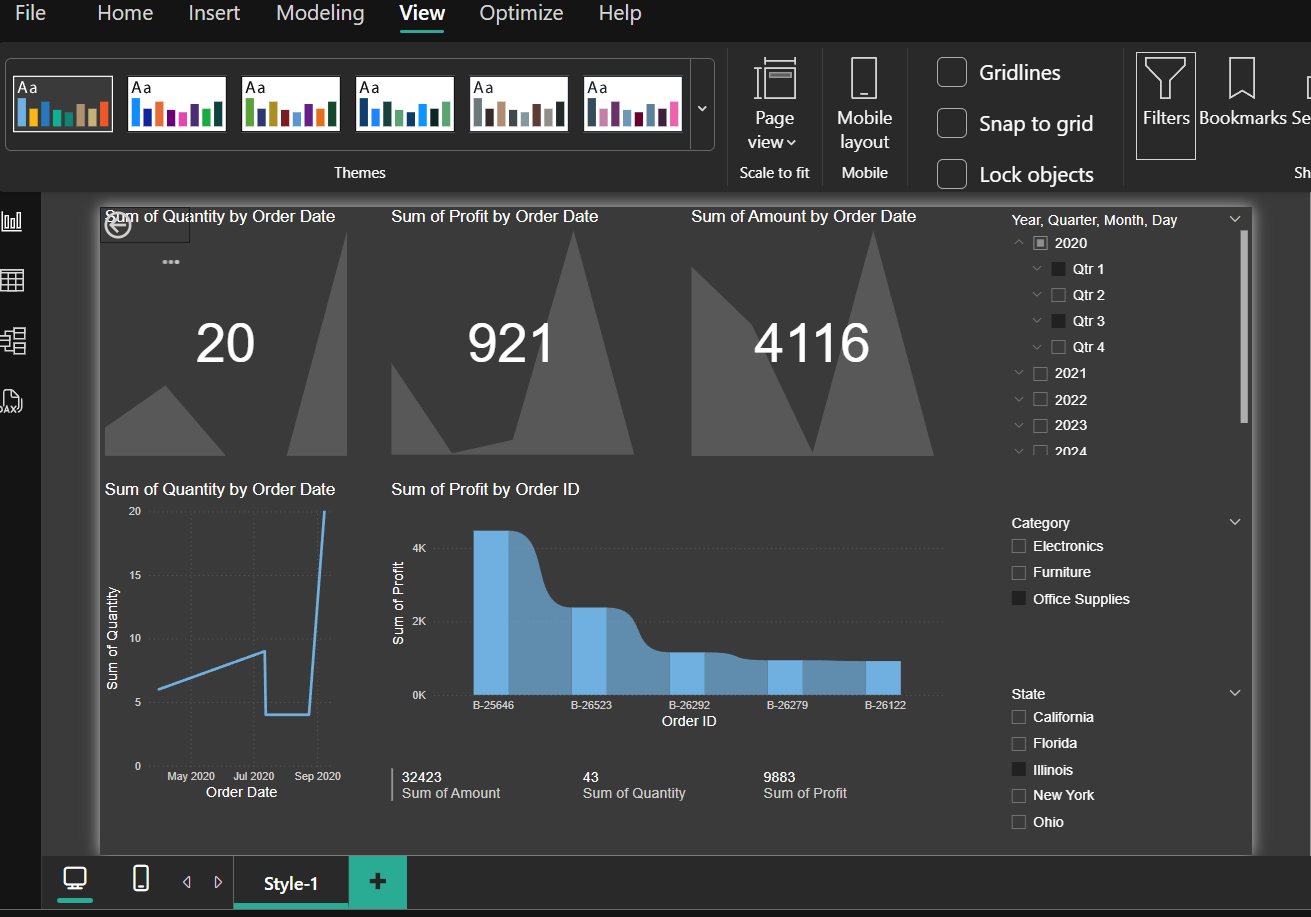

The page's visual inventory and layout, read from the dashboard file:
{"tool":"powerbi","page":{"name":"Style-1","canvas":[1280,720],"ordinal":0},"visuals":[{"type":"kpi","fields":{"TrendLine":["Sales Dataset.Order Date"],"Indicator":["Sum(Sales Dataset.Profit)"]},"box":[318,0,280,280],"z":0},{"type":"kpi","fields":{"Indicator":["Sum(Sales Dataset.Quantity)"],"TrendLine":["Sales Dataset.Order Date"]},"box":[0,0,279.7,281.6],"z":1000},{"type":"kpi","fields":{"Indicator":["Sum(Sales Dataset.Amount)"],"TrendLine":["Sales Dataset.Order Date"]},"box":[651.7,0,280,281.7],"z":2000},{"type":"lineChart","fields":{"Y":["Sum(Sales Dataset.Quantity)"],"Category":["Sales Dataset.Order Date"]},"box":[0,303.3,280,360],"z":3000},{"type":"slicer","fields":{"Values":["Sales Dataset.Order Date.Variation.Date Hierarchy.Year","Sales Dataset.Order Date.Variation.Date Hierarchy.Quarter","Sales Dataset.Order Date.Variation.Date Hierarchy.Month","Sales Dataset.Order Date.Variation.Date Hierarchy.Day"]},"box":[1000,0,280,280],"z":4000},{"type":"slicer","fields":{"Values":["Sales Dataset.Category"]},"box":[1000,336.7,280,146.7],"z":5000},{"type":"actionButton","box":[0,0,100,40],"z":6000},{"type":"multiRowCard","fields":{"Values":["Sum(Sales Dataset.Amount)","Sum(Sales Dataset.Quantity)","Sum(Sales Dataset.Profit)"]},"box":[318.3,618.3,625,88.3],"z":6001},{"type":"ribbonChart","fields":{"Category":["Sales Dataset.Order ID"],"Y":["Sum(Sales Dataset.Profit)"]},"box":[318.3,303.3,625,281.7],"z":6002},{"type":"slicer","fields":{"Values":["Sales Dataset.State"]},"box":[1000,526.7,280,180],"z":6003}]}

Visuals, with their boxes on the page's 1280x720 design canvas (x1, y1, x2, y2). These are canvas units, not pixel positions in the 1311x917 screenshot, which may show the page scaled, cropped or inside an application window:
kpi - Sales Dataset.Order Date x Sum(Sales Dataset.Profit): 318, 0, 598, 280
kpi - Sum(Sales Dataset.Quantity) x Sales Dataset.Order Date: 0, 0, 280, 282
kpi - Sum(Sales Dataset.Amount) x Sales Dataset.Order Date: 652, 0, 932, 282
lineChart - Sum(Sales Dataset.Quantity) x Sales Dataset.Order Date: 0, 303, 280, 663
slicer - Sales Dataset.Order Date.Variation.Date Hierarchy.Year x Sales Dataset.Order Date.Variation.Date Hierarchy.Quarter: 1000, 0, 1280, 280
slicer - Sales Dataset.Category: 1000, 337, 1280, 483
actionButton: 0, 0, 100, 40
multiRowCard - Sum(Sales Dataset.Amount) x Sum(Sales Dataset.Quantity): 318, 618, 943, 707
ribbonChart - Sales Dataset.Order ID x Sum(Sales Dataset.Profit): 318, 303, 943, 585
slicer - Sales Dataset.State: 1000, 527, 1280, 707
